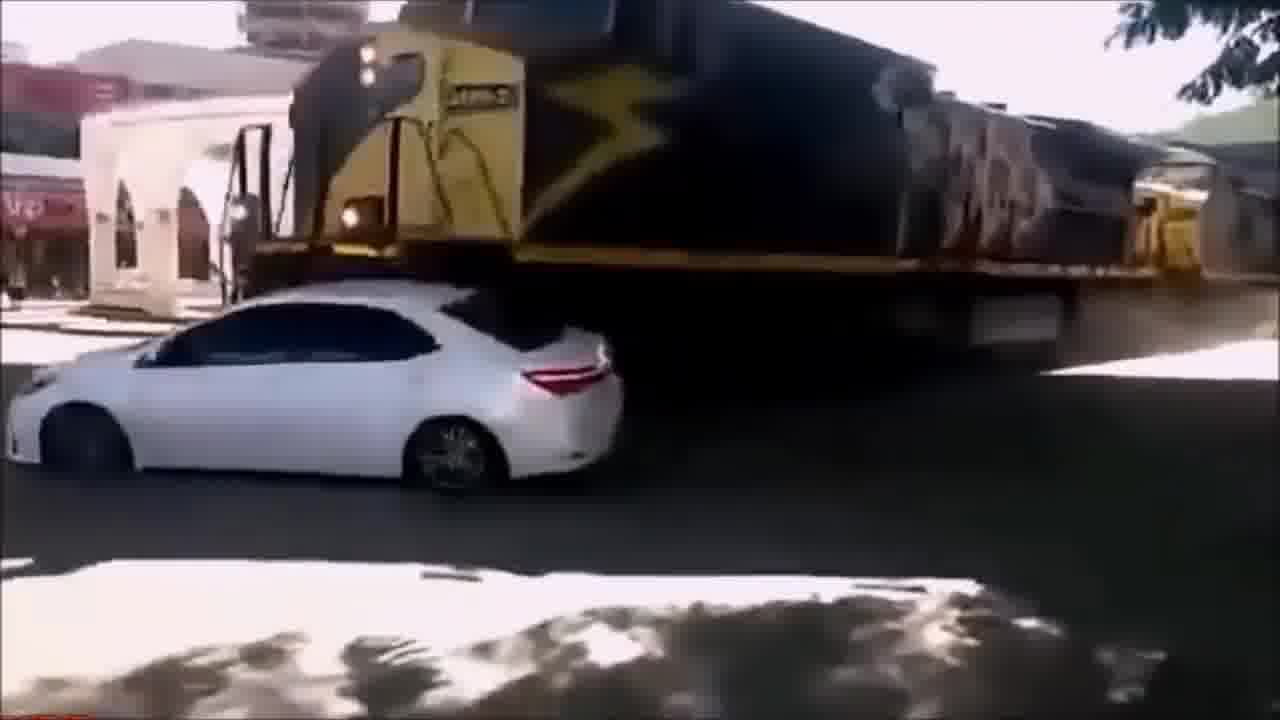crossing railway track: (10, 256, 644, 539)
